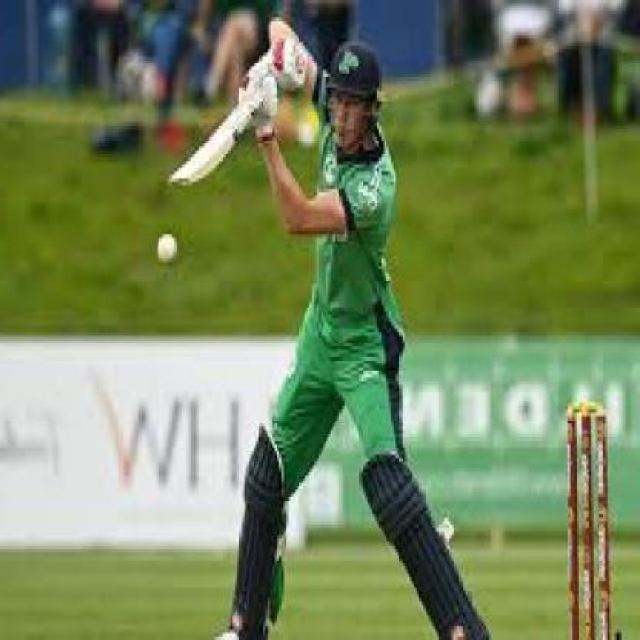ball: (136, 210, 206, 277)
